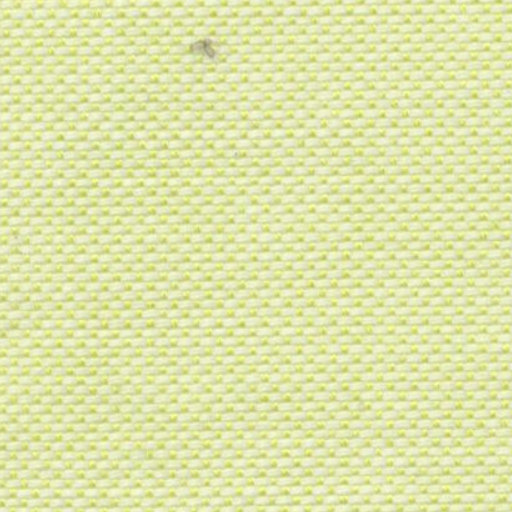WuZi: (172, 19, 232, 78)
